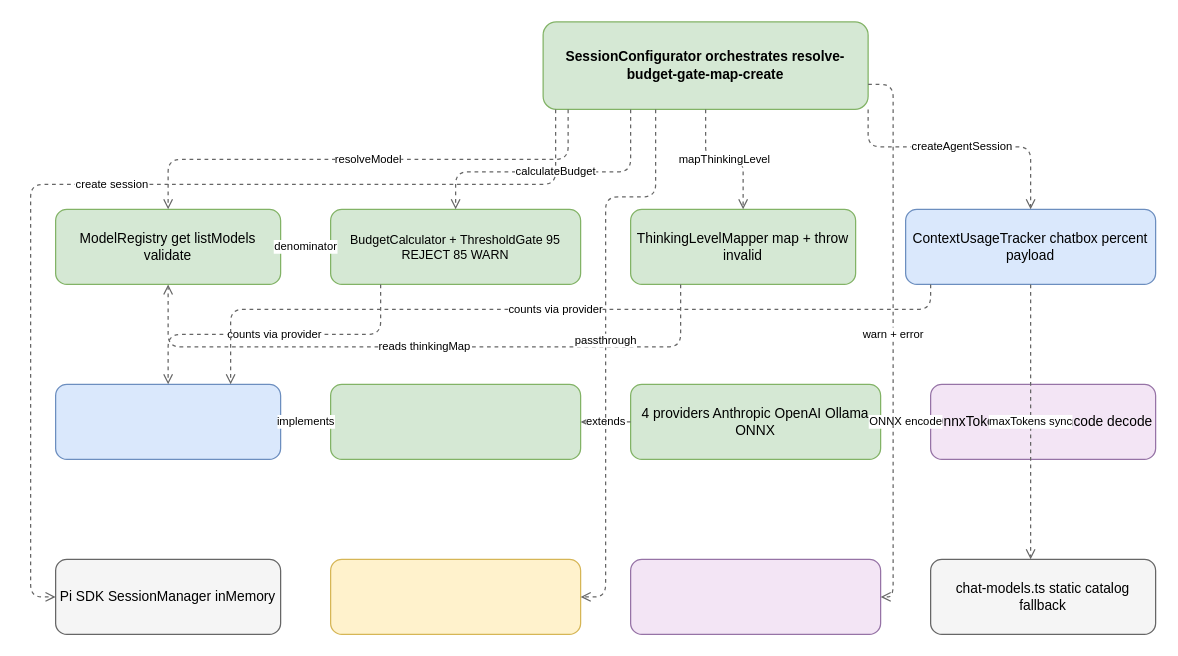
This 1178x656 diagram has some shape labels left out. The box of each missing label's shape, as (x1, y1, x2, y2) in pixels:
BaseLlmProvider timeout 5s + fallback 4: (329, 383, 581, 459)
LlmProvider interface + countTokens: (54, 383, 281, 459)
logger warn error diagnostics: (629, 558, 881, 634)
SettingsManager + CredentialRef: (329, 558, 581, 634)
